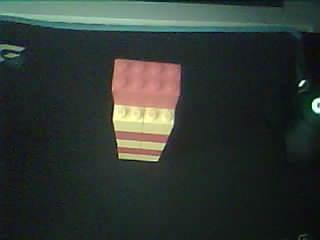lego: (111, 59, 181, 162)
